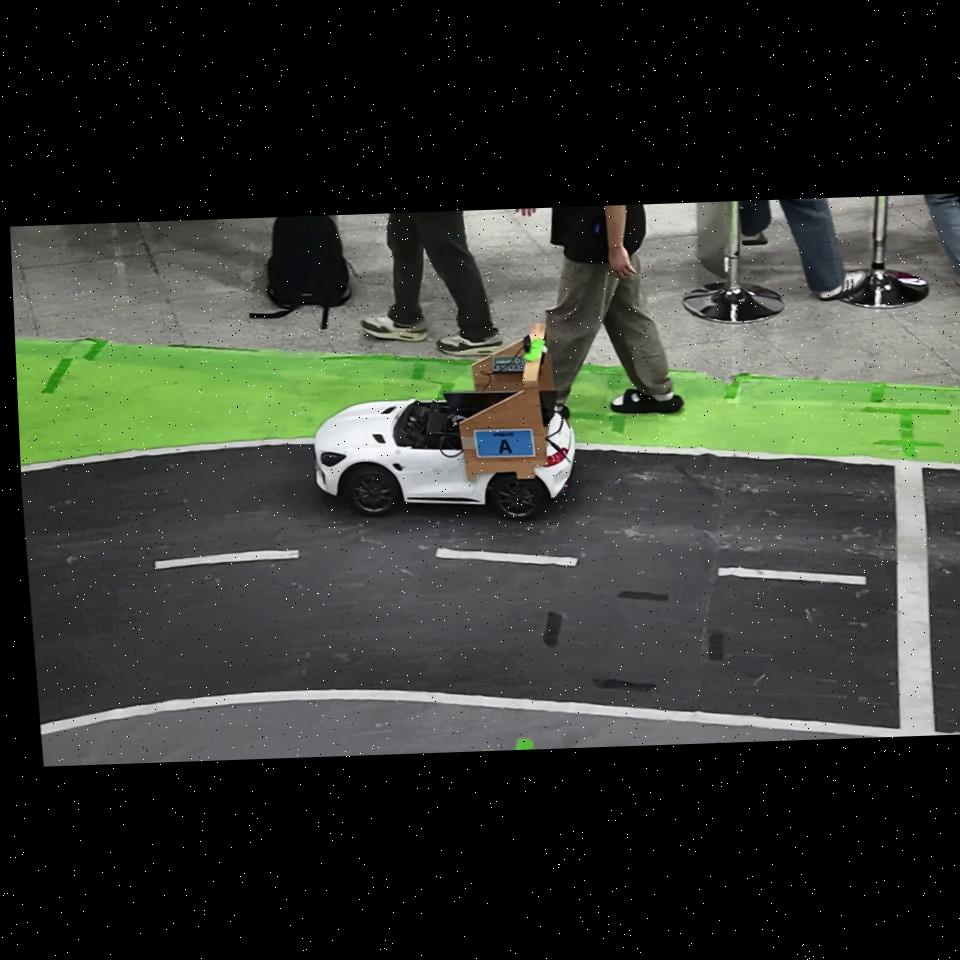broken_line: (155, 550, 299, 569), (718, 567, 866, 585), (435, 548, 578, 566)
